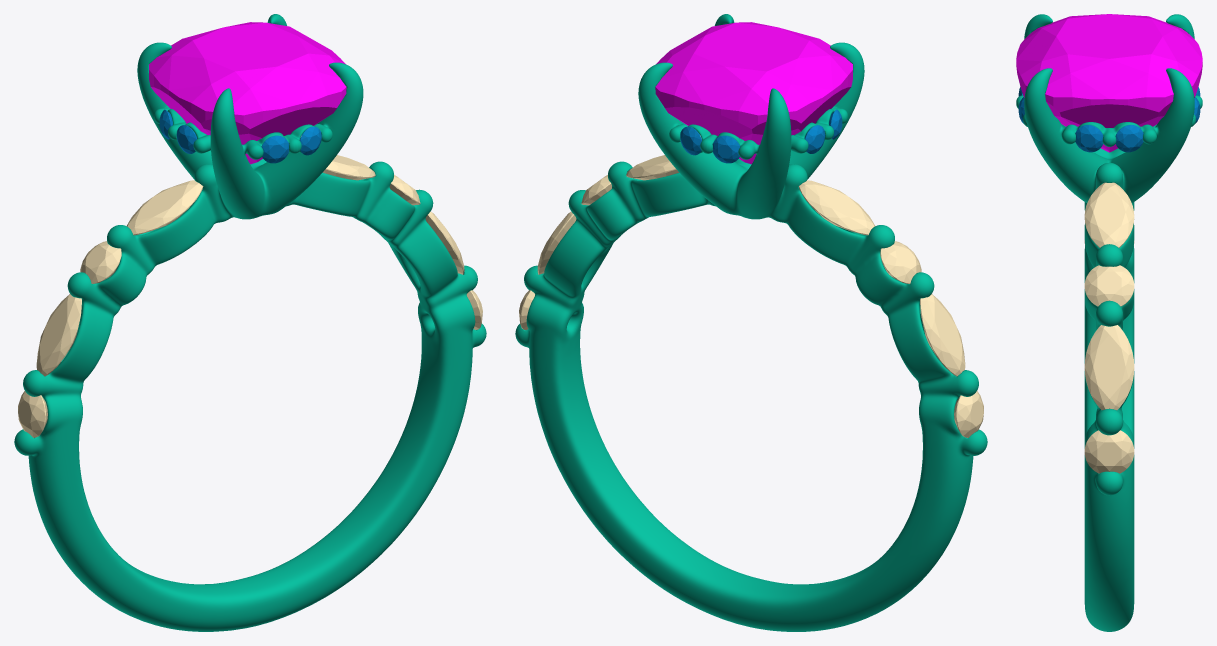
The model's file is BE1D6336_CU_200ct_RENDER.glb.
3 views of the same model, side by side, from view 1: azimuth 30°, elevation 25°; view 2: azimuth 150°, elevation 25°; view 3: azimuth 270°, elevation 25° (orthographic).
Visible parts, largest first — view 1: Metal 01, CS_Diamond_Cushion, Diamond_Marquise_Gem_SH.003, Diamond_Marquise_Gem_SH.002, Diamond_Round_Gem_SH.002, Diamond_Round_Gem_SH.003, Diamond_Marquise_Gem_SH.001, Diamond_Marquise_Gem_SH; view 2: Metal 01, CS_Diamond_Cushion, Diamond_Marquise_Gem_SH.003, Diamond_Marquise_Gem_SH.002, Diamond_Round_Gem_SH.002, Diamond_Round_Gem_SH.003, Diamond_Marquise_Gem_SH.001, Diamond_Marquise_Gem_SH; view 3: Metal 01, CS_Diamond_Cushion, Diamond_Marquise_Gem_SH, Diamond_Marquise_Gem_SH.001, Diamond_Round_Gem_SH, Diamond_Round_Gem_SH.001, Diamond_Round_Gem_HD.002, Diamond_Round_Gem_HD.003.
Boxes of the visible parts, x1,y1,x2,y2 form: Metal 01: (14, 14, 486, 631); CS_Diamond_Cushion: (149, 22, 346, 164); Diamond_Marquise_Gem_SH.003: (36, 294, 81, 376); Diamond_Marquise_Gem_SH.002: (127, 180, 203, 235); Diamond_Round_Gem_SH.002: (80, 241, 121, 283); Diamond_Round_Gem_SH.003: (18, 391, 47, 437); Diamond_Marquise_Gem_SH.001: (323, 155, 375, 180); Diamond_Marquise_Gem_SH: (425, 211, 464, 274); Metal 01: (515, 14, 987, 631); CS_Diamond_Cushion: (655, 22, 852, 164); Diamond_Marquise_Gem_SH.003: (920, 294, 965, 376); Diamond_Marquise_Gem_SH.002: (798, 180, 874, 235); Diamond_Round_Gem_SH.002: (880, 241, 921, 283); Diamond_Round_Gem_SH.003: (954, 391, 983, 437); Diamond_Marquise_Gem_SH.001: (626, 155, 678, 180); Diamond_Marquise_Gem_SH: (537, 211, 576, 274); Metal 01: (1016, 14, 1202, 631); CS_Diamond_Cushion: (1016, 14, 1202, 152); Diamond_Marquise_Gem_SH: (1084, 325, 1134, 410); Diamond_Marquise_Gem_SH.001: (1084, 182, 1134, 247); Diamond_Round_Gem_SH: (1084, 430, 1134, 473); Diamond_Round_Gem_SH.001: (1084, 265, 1134, 306); Diamond_Round_Gem_HD.002: (1115, 125, 1143, 152); Diamond_Round_Gem_HD.003: (1075, 125, 1103, 152).
Bounding box in the file's own units: 21.54 × 25.37 × 7.5.
